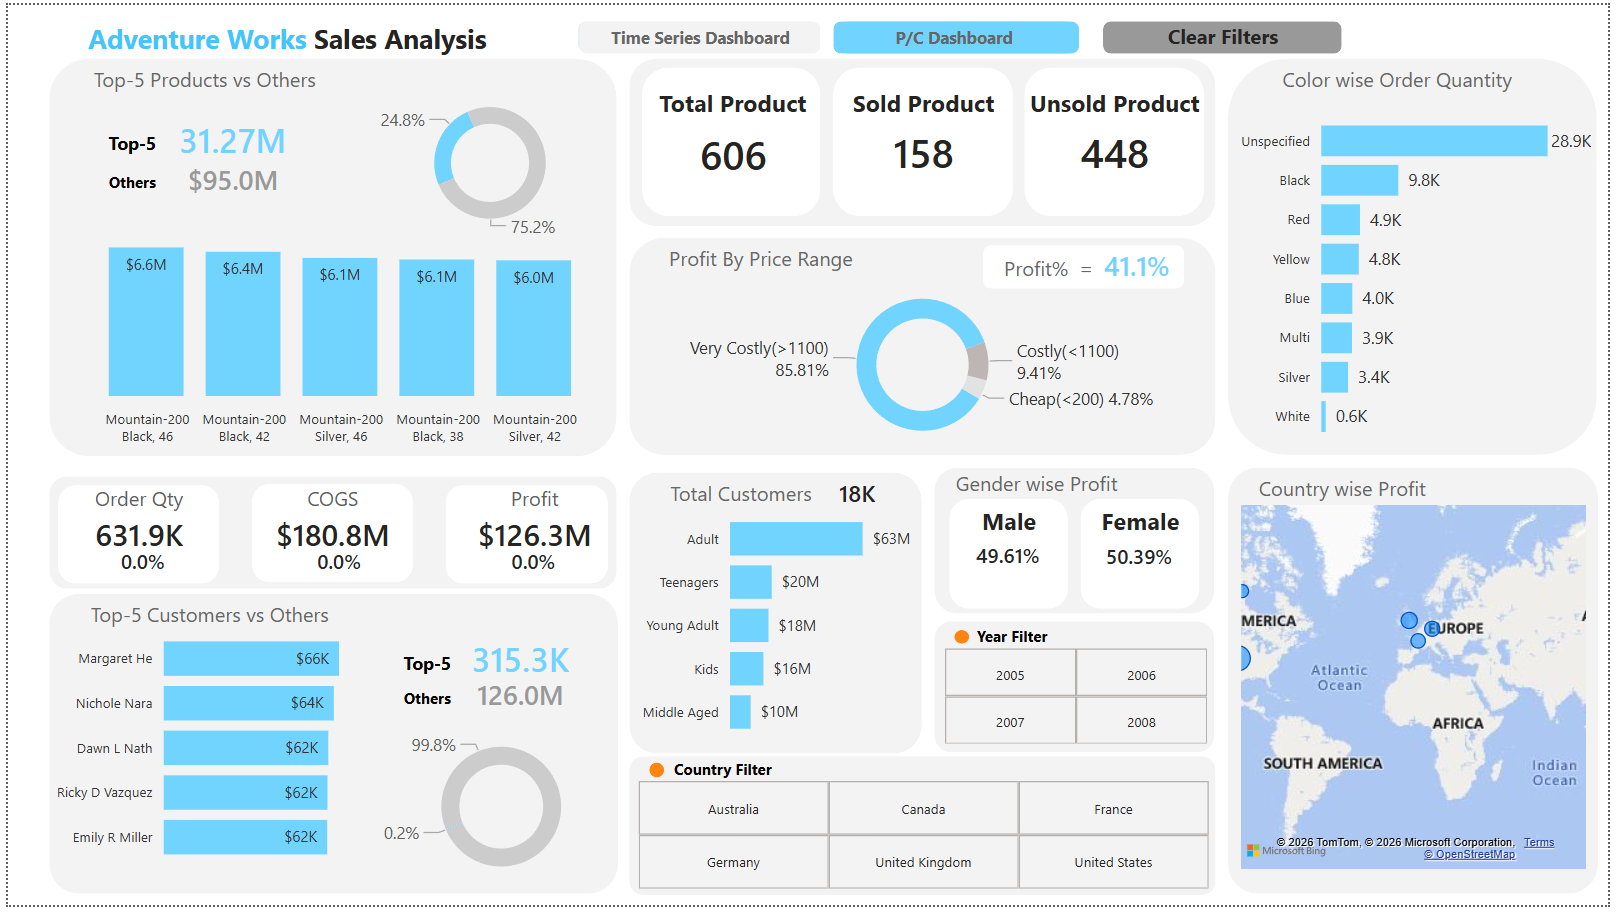

The dashboard page shown, as its layout file describes it:
{"tool":"powerbi","page":{"name":"P/C Dashboard","canvas":[1280,720],"ordinal":1},"visuals":[{"type":"shape","box":[32.9,376.8,453.8,90.3],"z":0},{"type":"shape","box":[741,370,224,117],"z":1000},{"type":"shape","box":[497,43,468.6,133.7],"z":2000},{"type":"shape","box":[976,43,295,317],"z":3000},{"type":"shape","box":[33,43,454,318],"z":4000},{"type":"shape","box":[33.3,471.3,454.7,240.1],"z":5000},{"type":"shape","box":[497,186,468.8,174.4],"z":6000},{"type":"shape","box":[507.5,50,143.1,118.6],"z":7000,"group":"g3"},{"type":"shape","box":[497,374,234,225],"z":7000},{"type":"shape","box":[752.8,395,95.3,88],"z":7000,"group":"g1"},{"type":"shape","box":[857.7,395,95.3,87.9],"z":7000,"group":"g2"},{"type":"shape","box":[497,601,469,110.9],"z":8000},{"type":"shape","box":[813.1,50,143.4,118.6],"z":9000,"group":"g4"},{"type":"group","id":"g1","title":"Group 1","box":[752.8,395,95.3,88],"z":9000,"group":"g5"},{"type":"shape","box":[741,493,224,105],"z":9000},{"type":"shape","box":[976.1,370.5,295.5,340.9],"z":10000},{"type":"group","id":"g2","title":"Group 1","box":[857.7,395,95.3,87.9],"z":10000,"group":"g6"},{"type":"textbox","box":[508.6,60.8,143.1,39.2],"z":11000,"group":"g3"},{"type":"textbox","box":[57,96,84,32],"z":11000},{"type":"textbox","box":[804,60.8,161.6,39.2],"z":11002,"group":"g4"},{"type":"textbox","box":[293,512,84,32],"z":12000},{"type":"shape","box":[455.6,13.3,191,25],"z":13000},{"type":"group","id":"g3","title":"Group 1","box":[507.5,50,144.2,118.6],"z":14000},{"type":"cardVisual","fields":{"Data":["All Measures.Top 5 Product Profit"]},"box":[90,72,179,69],"z":15000},{"type":"textbox","box":[753,395,95,38],"z":15000,"group":"g5"},{"type":"textbox","box":[858,395,95,38],"z":16000,"group":"g6"},{"type":"textbox","box":[293,540,84,32],"z":16000},{"type":"textbox","box":[57,127,84,32],"z":17000},{"type":"cardVisual","fields":{"Data":["All Measures.Other Customer Profit"]},"box":[320,516,179,69],"z":18000},{"type":"cardVisual","fields":{"Data":["All Measures.Others Product Profit"]},"box":[90,104,179,69],"z":19000},{"type":"cardVisual","fields":{"Data":["All Measures.Top 5 Customer Profit"]},"box":[320,487,179,69],"z":20000},{"type":"shape","box":[876.4,13.3,191.1,25.6],"z":21000},{"type":"textbox","box":[455.6,7.8,191.1,36.7],"z":22000},{"type":"textbox","box":[888.9,8.9,165.6,36.7],"z":23000},{"type":"textbox","box":[54,7,338,43],"z":24000},{"type":"cardVisual","fields":{"Data":["All Measures.Total Product"]},"box":[508.6,81.4,144.2,73.3],"z":25000},{"type":"shape","box":[659.8,50,144.2,118.6],"z":26000},{"type":"shape","box":[666,13.3,191.1,25.6],"z":27000},{"type":"cardVisual","fields":{"Data":["FactInternetSales.Male Profit%"]},"box":[744,411,111,55],"z":27000,"group":"g5"},{"type":"group","id":"g4","title":"Group 3","box":[804,50,161.6,118.6],"z":28000},{"type":"cardVisual","fields":{"Data":["FactInternetSales.Female Profit%"]},"box":[848.9,412.6,111.3,53.6],"z":28000,"group":"g6"},{"type":"textbox","box":[678.9,7.8,165.6,36.7],"z":29000},{"type":"cardVisual","fields":{"Data":["All Measures.Unsold Products"]},"box":[813.3,80.2,144.2,73.3],"z":30000},{"type":"textbox","box":[659.8,60.8,144.2,39.2],"z":31000},{"type":"cardVisual","fields":{"Data":["All Measures.Sold Product"]},"box":[659.8,80.2,144.2,73.3],"z":32000},{"type":"clusteredColumnChart","fields":{"Category":["DimProduct.ProductName"],"Y":["All Measures.Profit"]},"box":[33,156,455,204],"z":33000},{"type":"textbox","box":[50,43.2,213.6,31.8],"z":34000},{"type":"clusteredBarChart","fields":{"Y":["All Measures.Profit"],"Category":["DimCustomer.Full Name"]},"box":[27,482,283,218],"z":35000},{"type":"textbox","box":[53.9,471.3,213.6,31.4],"z":36000},{"type":"donutChart","fields":{"Y":["All Measures.Profit"],"Category":["FactInternetSales.Price Range"]},"box":[496.6,215.9,468.2,144.3],"z":37000},{"type":"clusteredBarChart","fields":{"Y":["CountNonNull(FactInternetSales.OrderQuantity)"],"Category":["DimProduct.Color"]},"box":[976,71.1,295,288.9],"z":38000},{"type":"textbox","box":[509,186,186,33],"z":39000},{"type":"pageNavigator","box":[456.7,13.3,397.8,25.6],"z":40000},{"type":"textbox","box":[1005,43,212,38],"z":41000},{"type":"shape","box":[513,605.9,12,12],"z":42000},{"type":"advancedSlicerVisual","fields":{"Values":["DimGeography.Country"]},"box":[498.8,616.3,467.4,95.3],"z":43000},{"type":"textbox","box":[525.8,597,90.9,34.1],"z":44000},{"type":"clusteredBarChart","fields":{"Category":["FactInternetSales.Age Group"],"Y":["Sum(FactInternetSales.Profit)"]},"box":[497,387,234,212],"z":45000},{"type":"advancedSlicerVisual","fields":{"Values":["DimDate.Year"]},"box":[744,510,221,87],"z":46000},{"type":"textbox","box":[760.7,490,84.1,31.7],"z":47000},{"type":"shape","box":[757,500,12,11],"z":48000},{"type":"textbox","box":[979.1,369.8,175.6,32.6],"z":49000},{"type":"actionButton","box":[876.7,13.3,191.1,25.6],"z":50000},{"type":"shape","box":[39.5,383.9,129.1,79],"z":51000},{"type":"map","fields":{"Category":["DimGeography.Country"],"Size":["All Measures.Profit"]},"box":[981,395,286,301],"z":52000},{"type":"group","id":"g5","title":"Group 4","box":[744,395,111,88],"z":53000},{"type":"shape","box":[194.8,382.8,129.1,79],"z":54000},{"type":"group","id":"g6","title":"Group 8","box":[848.9,395,111.3,87.9],"z":55000},{"type":"shape","box":[780,192,161,35],"z":56000},{"type":"shape","box":[350,383.9,129.1,79],"z":57000},{"type":"cardVisual","fields":{"Data":["All Measures.Orderqty Growth rate"]},"box":[53.5,416.3,108.1,54.7],"z":58000},{"type":"cardVisual","fields":{"Data":["All Measures.COGS Growth rate"]},"box":[210.5,416.3,108.1,54.7],"z":59000},{"type":"cardVisual","fields":{"Data":["All Measures.Profit Growth rate"]},"box":[366.3,416.3,108.1,54.7],"z":60000},{"type":"cardVisual","fields":{"Data":["All Measures.Total Orders"]},"box":[30,364,149,94],"z":61000},{"type":"cardVisual","fields":{"Data":["All Measures.COGS"]},"box":[177.3,364,165.1,94.2],"z":62000},{"type":"cardVisual","fields":{"Data":["All Measures.Profit"]},"box":[340.7,364,160.5,94.2],"z":63000},{"type":"donutChart","fields":{"Y":["All Measures.Top 5 Product Profit","All Measures.Others Product Profit"]},"box":[291,61,188,131],"z":64000},{"type":"donutChart","fields":{"Y":["All Measures.Top 5 Customer Profit","All Measures.Other Customer Profit"]},"box":[291,572,206,139],"z":65000},{"type":"textbox","box":[770,194,124,32],"z":66000},{"type":"cardVisual","fields":{"Data":["All Measures.Profit%"]},"box":[813,173,179,69],"z":67000},{"type":"cardVisual","fields":{"Data":["All Measures.Total Customers"]},"box":[621,354,116,69],"z":68000},{"type":"textbox","box":[516,374,140,32],"z":69000},{"type":"textbox","box":[748,366,149,35],"z":70000}]}

Visuals, with their boxes in screenshot pixels (x1, y1, x2, y2), scaled from the page's 1280x720 canvas onto the 1618x912 screenshot:
shape: l=42, t=477, r=615, b=592
shape: l=937, t=469, r=1220, b=617
shape: l=628, t=54, r=1221, b=224
shape: l=1234, t=54, r=1607, b=456
shape: l=42, t=54, r=616, b=457
shape: l=42, t=597, r=617, b=901
shape: l=628, t=236, r=1221, b=457
shape: l=642, t=63, r=822, b=214
shape: l=628, t=474, r=924, b=759
shape: l=952, t=500, r=1072, b=612
shape: l=1084, t=500, r=1205, b=612
shape: l=628, t=761, r=1221, b=902
shape: l=1028, t=63, r=1209, b=214
"Group 1" group: l=952, t=500, r=1072, b=612
shape: l=937, t=624, r=1220, b=757
shape: l=1234, t=469, r=1607, b=901
"Group 1" group: l=1084, t=500, r=1205, b=612
textbox: l=643, t=77, r=824, b=127
textbox: l=72, t=122, r=178, b=162
textbox: l=1016, t=77, r=1221, b=127
textbox: l=370, t=649, r=477, b=689
shape: l=576, t=17, r=817, b=49
"Group 1" group: l=642, t=63, r=824, b=214
cardVisual - All Measures.Top 5 Product Profit: l=114, t=91, r=340, b=179
textbox: l=952, t=500, r=1072, b=548
textbox: l=1085, t=500, r=1205, b=548
textbox: l=370, t=684, r=477, b=725
textbox: l=72, t=161, r=178, b=201
cardVisual - All Measures.Other Customer Profit: l=404, t=654, r=631, b=741
cardVisual - All Measures.Others Product Profit: l=114, t=132, r=340, b=219
cardVisual - All Measures.Top 5 Customer Profit: l=404, t=617, r=631, b=704
shape: l=1108, t=17, r=1349, b=49
textbox: l=576, t=10, r=817, b=56
textbox: l=1124, t=11, r=1333, b=58
textbox: l=68, t=9, r=496, b=63
cardVisual - All Measures.Total Product: l=643, t=103, r=825, b=196
shape: l=834, t=63, r=1016, b=214
shape: l=842, t=17, r=1083, b=49
cardVisual - FactInternetSales.Male Profit%: l=940, t=521, r=1081, b=590
"Group 3" group: l=1016, t=63, r=1221, b=214
cardVisual - FactInternetSales.Female Profit%: l=1073, t=523, r=1214, b=591
textbox: l=858, t=10, r=1068, b=56
cardVisual - All Measures.Unsold Products: l=1028, t=102, r=1210, b=194
textbox: l=834, t=77, r=1016, b=127
cardVisual - All Measures.Sold Product: l=834, t=102, r=1016, b=194
clusteredColumnChart - DimProduct.ProductName x All Measures.Profit: l=42, t=198, r=617, b=456
textbox: l=63, t=55, r=333, b=95
clusteredBarChart - All Measures.Profit x DimCustomer.Full Name: l=34, t=611, r=392, b=887
textbox: l=68, t=597, r=338, b=637
donutChart - All Measures.Profit x FactInternetSales.Price Range: l=628, t=273, r=1220, b=456
clusteredBarChart - CountNonNull(FactInternetSales.OrderQuantity) x DimProduct.Color: l=1234, t=90, r=1607, b=456
textbox: l=643, t=236, r=879, b=277
pageNavigator: l=577, t=17, r=1080, b=49
textbox: l=1270, t=54, r=1538, b=103
shape: l=648, t=767, r=664, b=783
advancedSlicerVisual - DimGeography.Country: l=631, t=781, r=1221, b=901
textbox: l=665, t=756, r=780, b=799
clusteredBarChart - FactInternetSales.Age Group x Sum(FactInternetSales.Profit): l=628, t=490, r=924, b=759
advancedSlicerVisual - DimDate.Year: l=940, t=646, r=1220, b=756
textbox: l=962, t=621, r=1068, b=661
shape: l=957, t=633, r=972, b=647
textbox: l=1238, t=468, r=1460, b=510
actionButton: l=1108, t=17, r=1350, b=49
shape: l=50, t=486, r=213, b=586
map - DimGeography.Country x All Measures.Profit: l=1240, t=500, r=1602, b=882
"Group 4" group: l=940, t=500, r=1081, b=612
shape: l=246, t=485, r=409, b=585
"Group 8" group: l=1073, t=500, r=1214, b=612
shape: l=986, t=243, r=1189, b=288
shape: l=442, t=486, r=606, b=586
cardVisual - All Measures.Orderqty Growth rate: l=68, t=527, r=204, b=597
cardVisual - All Measures.COGS Growth rate: l=266, t=527, r=403, b=597
cardVisual - All Measures.Profit Growth rate: l=463, t=527, r=600, b=597
cardVisual - All Measures.Total Orders: l=38, t=461, r=226, b=580
cardVisual - All Measures.COGS: l=224, t=461, r=433, b=580
cardVisual - All Measures.Profit: l=431, t=461, r=634, b=580
donutChart - All Measures.Top 5 Product Profit x All Measures.Others Product Profit: l=368, t=77, r=605, b=243
donutChart - All Measures.Top 5 Customer Profit x All Measures.Other Customer Profit: l=368, t=725, r=628, b=901
textbox: l=973, t=246, r=1130, b=286
cardVisual - All Measures.Profit%: l=1028, t=219, r=1254, b=307
cardVisual - All Measures.Total Customers: l=785, t=448, r=932, b=536
textbox: l=652, t=474, r=829, b=514
textbox: l=946, t=464, r=1134, b=508
